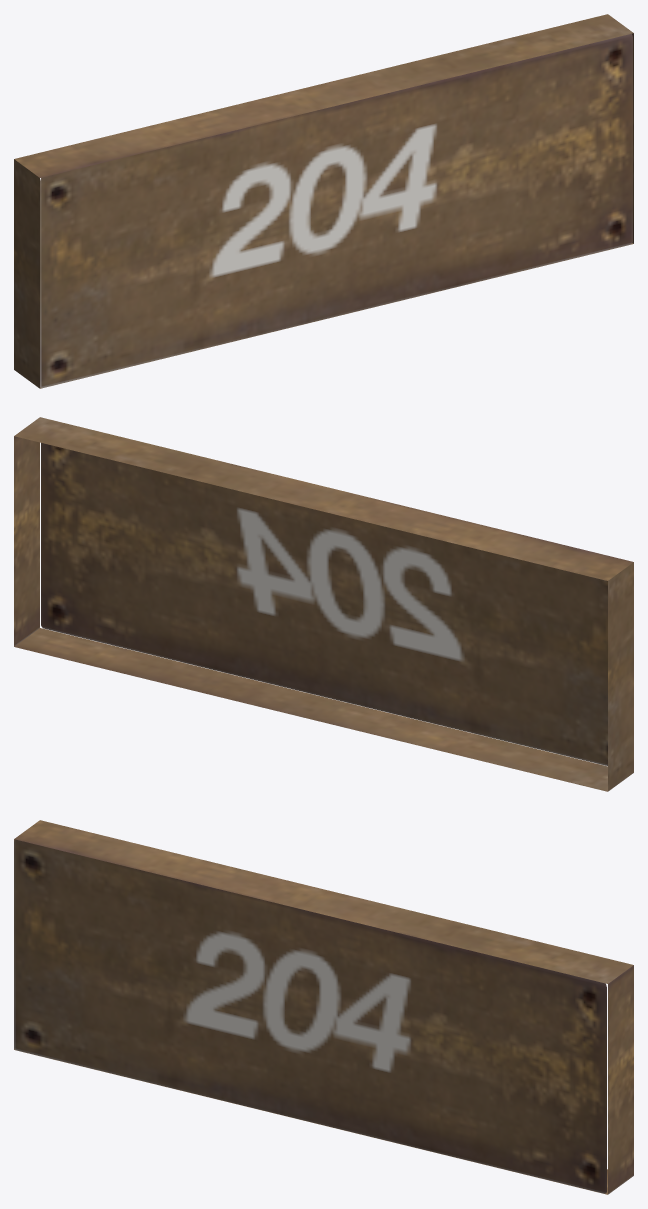
File: 204_sign.FBX
The picture shows the model from 3 angles, top to bottom: view 1: azimuth 30°, elevation 25°; view 2: azimuth 150°, elevation 25°; view 3: azimuth 330°, elevation 25°; orthographic projection.
Visible parts, largest first — view 1: 204_sign; view 2: 204_sign; view 3: 204_sign.
Part boxes in pixels (bbox=[...]): 204_sign: bbox=[14, 14, 633, 388]; 204_sign: bbox=[14, 417, 633, 791]; 204_sign: bbox=[14, 820, 633, 1194].
Bounding box in the file's own units: 68.28 × 23.15 × 5.19.
